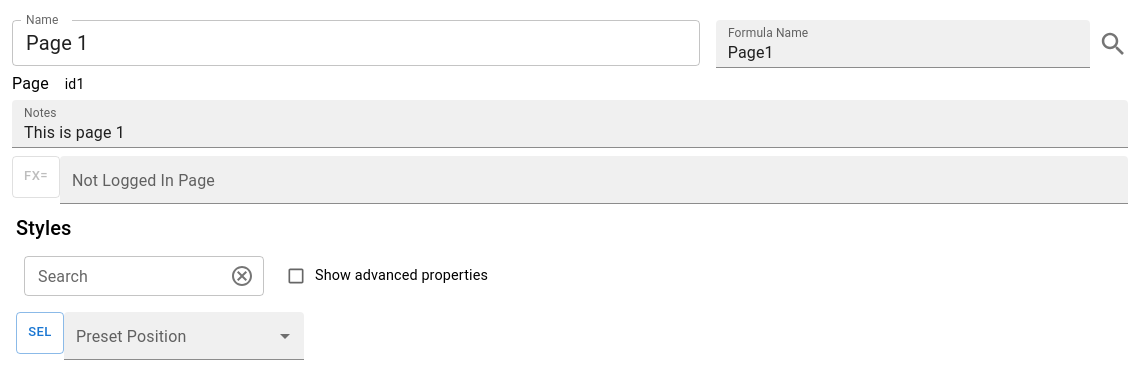
updates notes on blur
The width and height of the screenshot is (1145, 377).
Replace the text in the text box with id "notes" with "This is page One" at (570, 132), box [24,121,1116,144]
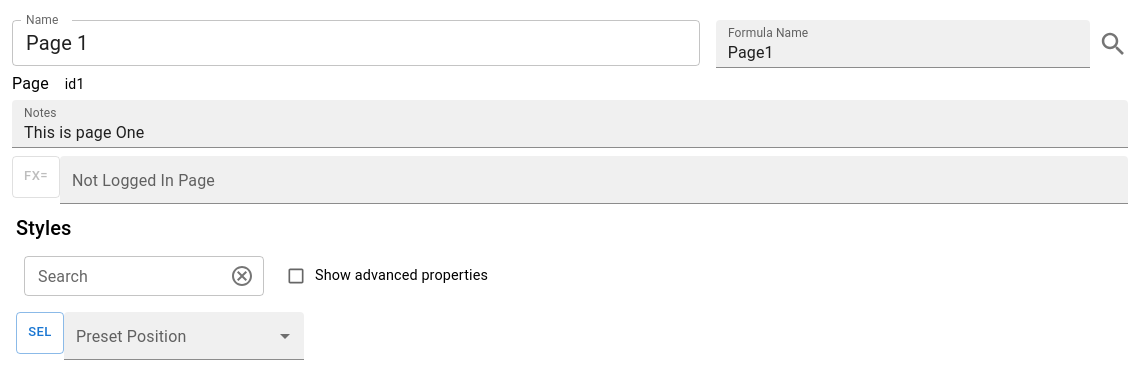
expect the text "This is page One" is shown: met, box [24,123,144,142]
